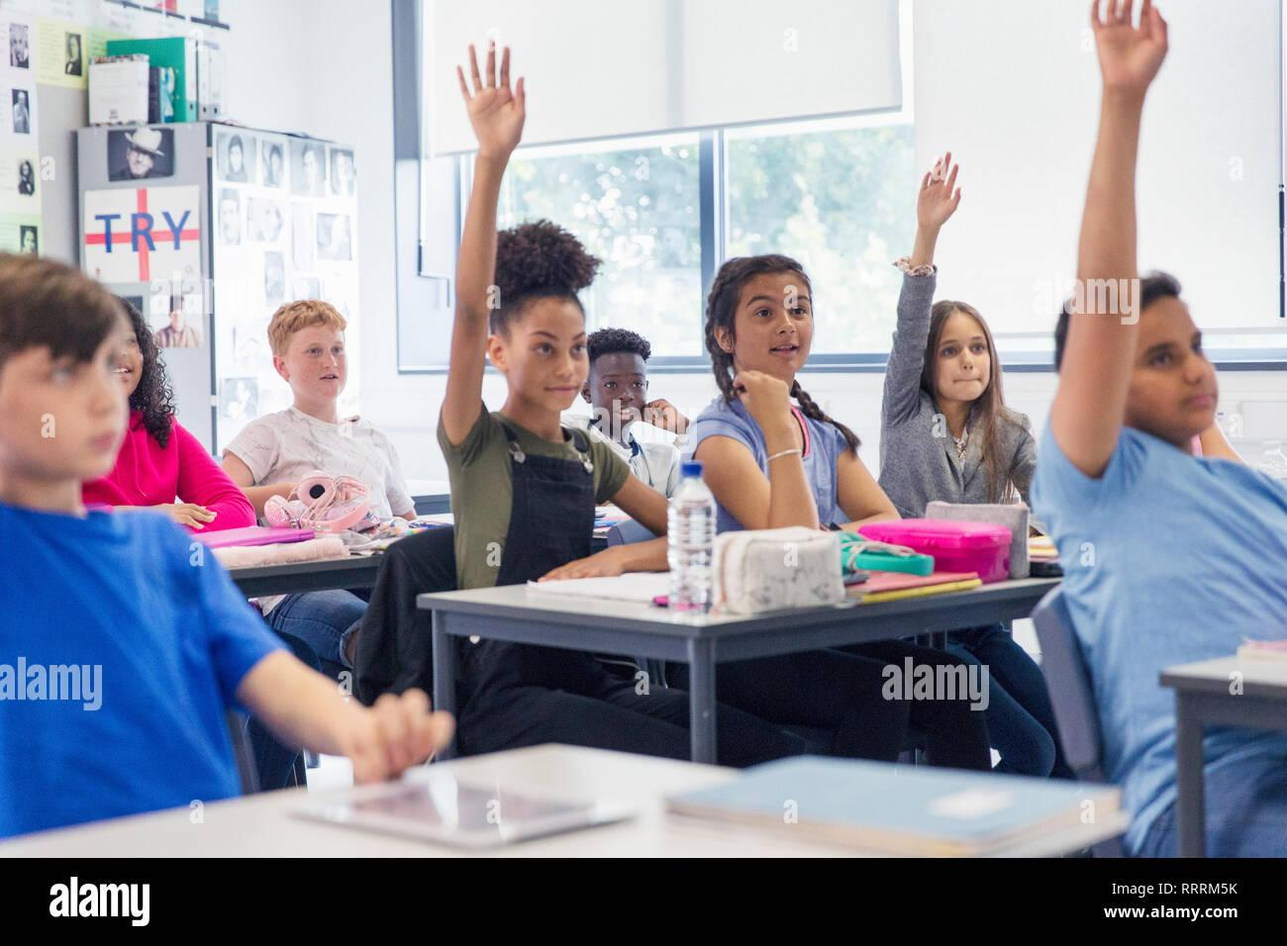study: (1037, 0, 1287, 664), (422, 34, 697, 596), (881, 151, 1042, 537)
